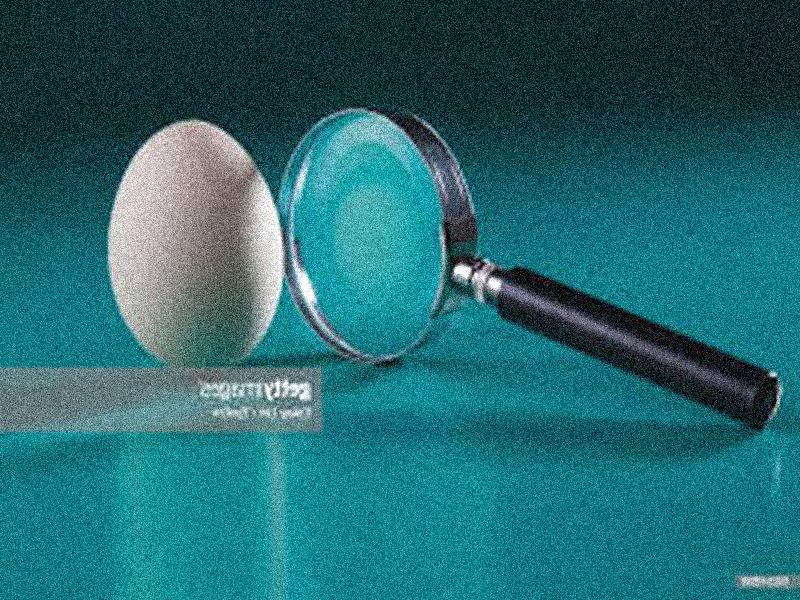Eggs: (107, 118, 284, 370)
